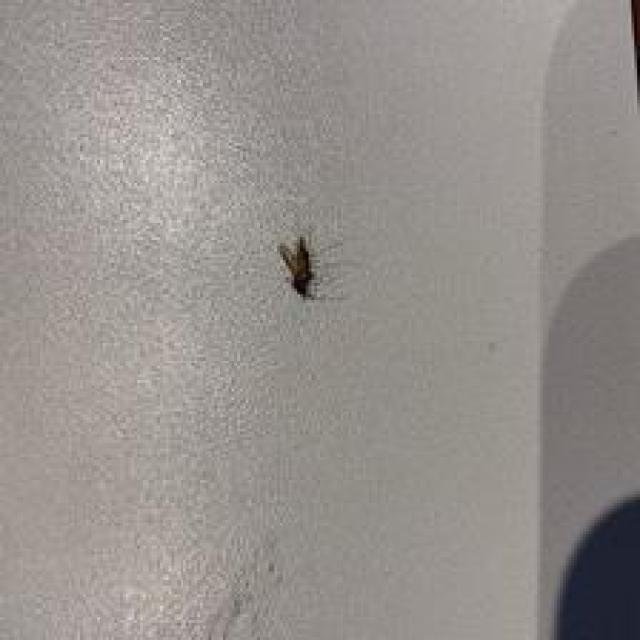Culex: (276, 234, 318, 300)
